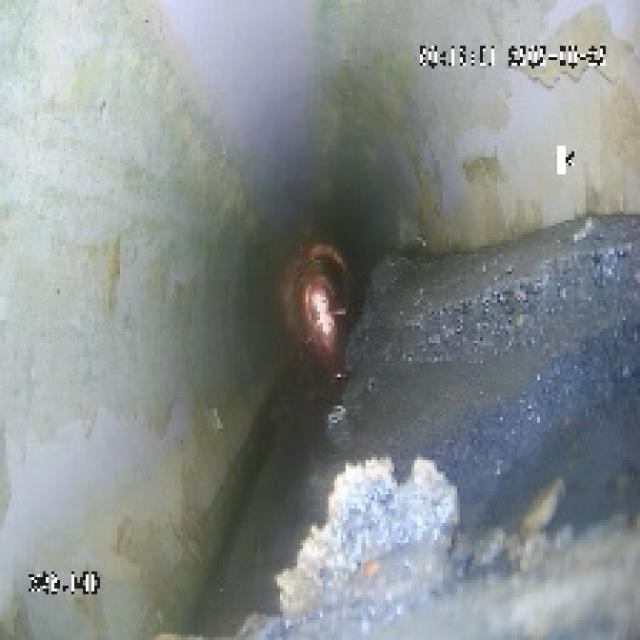sluge accumulation: (346, 300, 637, 634)
